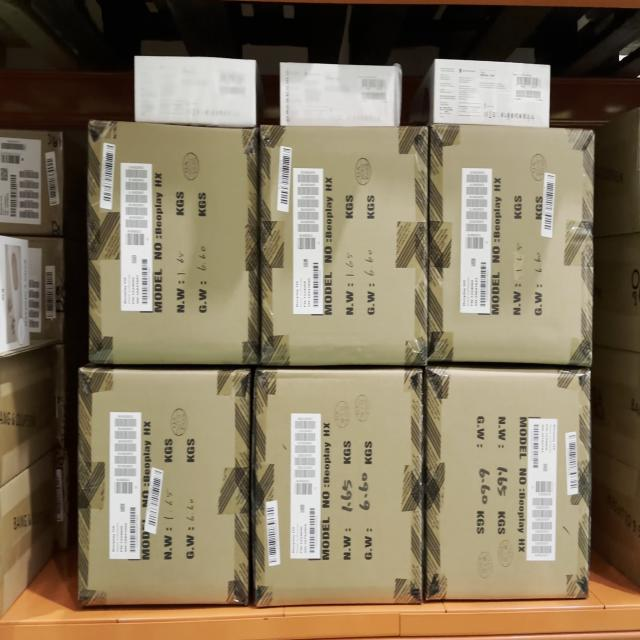box: (79, 364, 252, 604), (90, 118, 253, 364), (259, 123, 427, 360), (433, 124, 592, 369), (254, 369, 421, 601), (427, 370, 590, 602)
